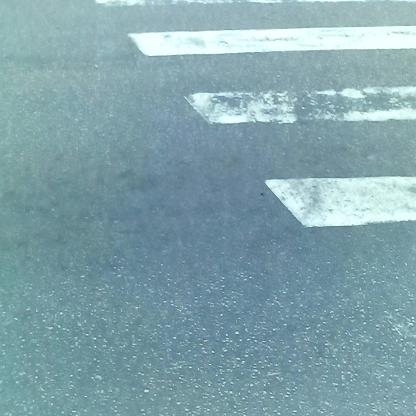crosswalk: (94, 5, 416, 245)
